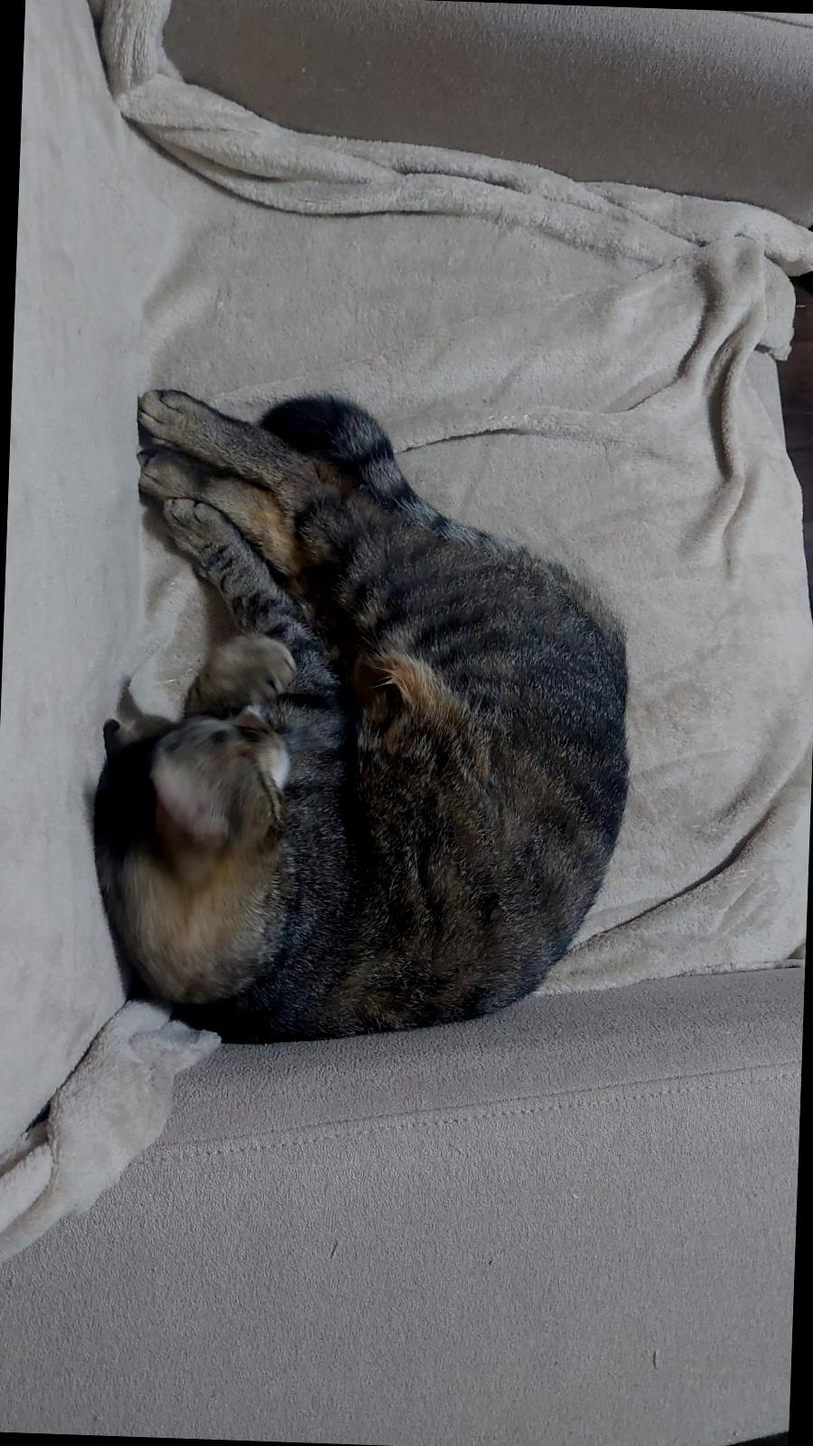macka: (85, 385, 643, 1061)
